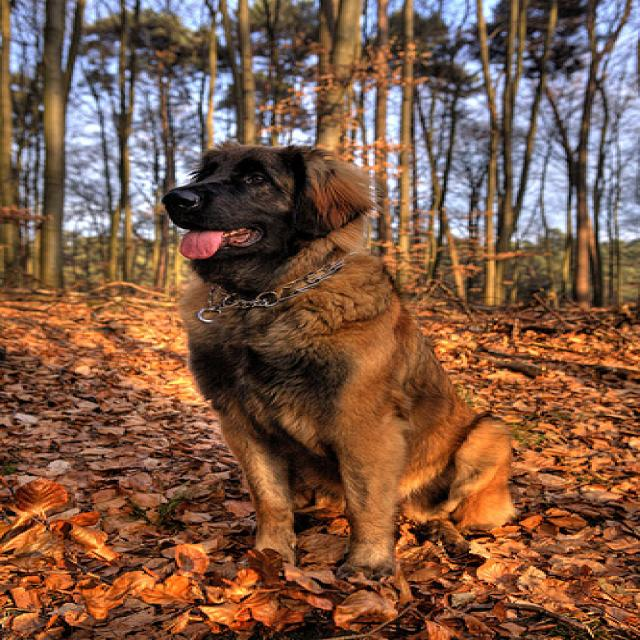dog-leonberger: (146, 136, 530, 571)
